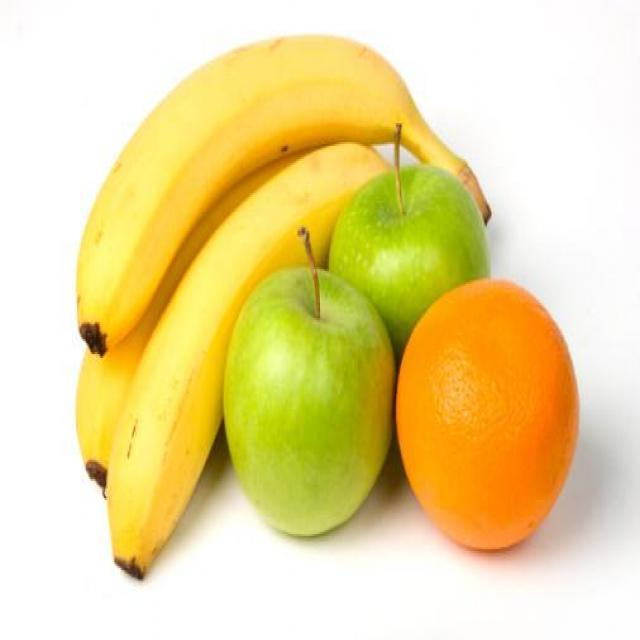Apple: (219, 250, 403, 542), (324, 144, 503, 329)
Banana: (62, 28, 491, 580)
Orange: (391, 277, 582, 559)
